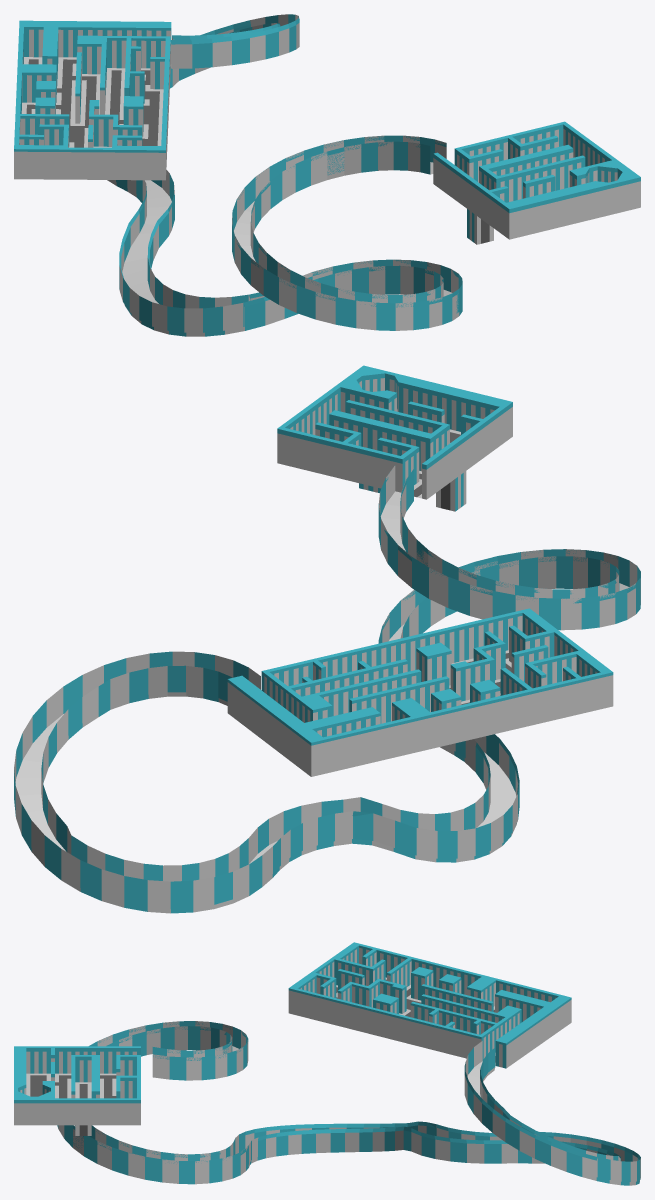
File: moonlevel5.fbx
The picture shows the model from 3 angles, top to bottom: view 1: azimuth 30°, elevation 25°; view 2: azimuth 150°, elevation 25°; view 3: azimuth 270°, elevation 25°; orthographic projection. The views are drawn at different scales.
Parts seen in each view (by area): view 1: Cube.001, Plane, Plane.001; view 2: Cube.001, Plane, Plane.001; view 3: Cube.001, Plane, Plane.001.
Part boxes in pixels (left/top/right/bottom): Cube.001: left=107, top=14, right=462, bottom=336; Plane: left=14, top=20, right=171, bottom=180; Plane.001: left=433, top=121, right=640, bottom=244; Cube.001: left=14, top=465, right=640, bottom=913; Plane: left=227, top=608, right=613, bottom=776; Plane.001: left=277, top=365, right=512, bottom=511; Cube.001: left=57, top=1021, right=640, bottom=1185; Plane: left=288, top=942, right=571, bottom=1068; Plane.001: left=14, top=1046, right=140, bottom=1135.
Size of the model in its own units: 5148 by 2448 by 7903.
